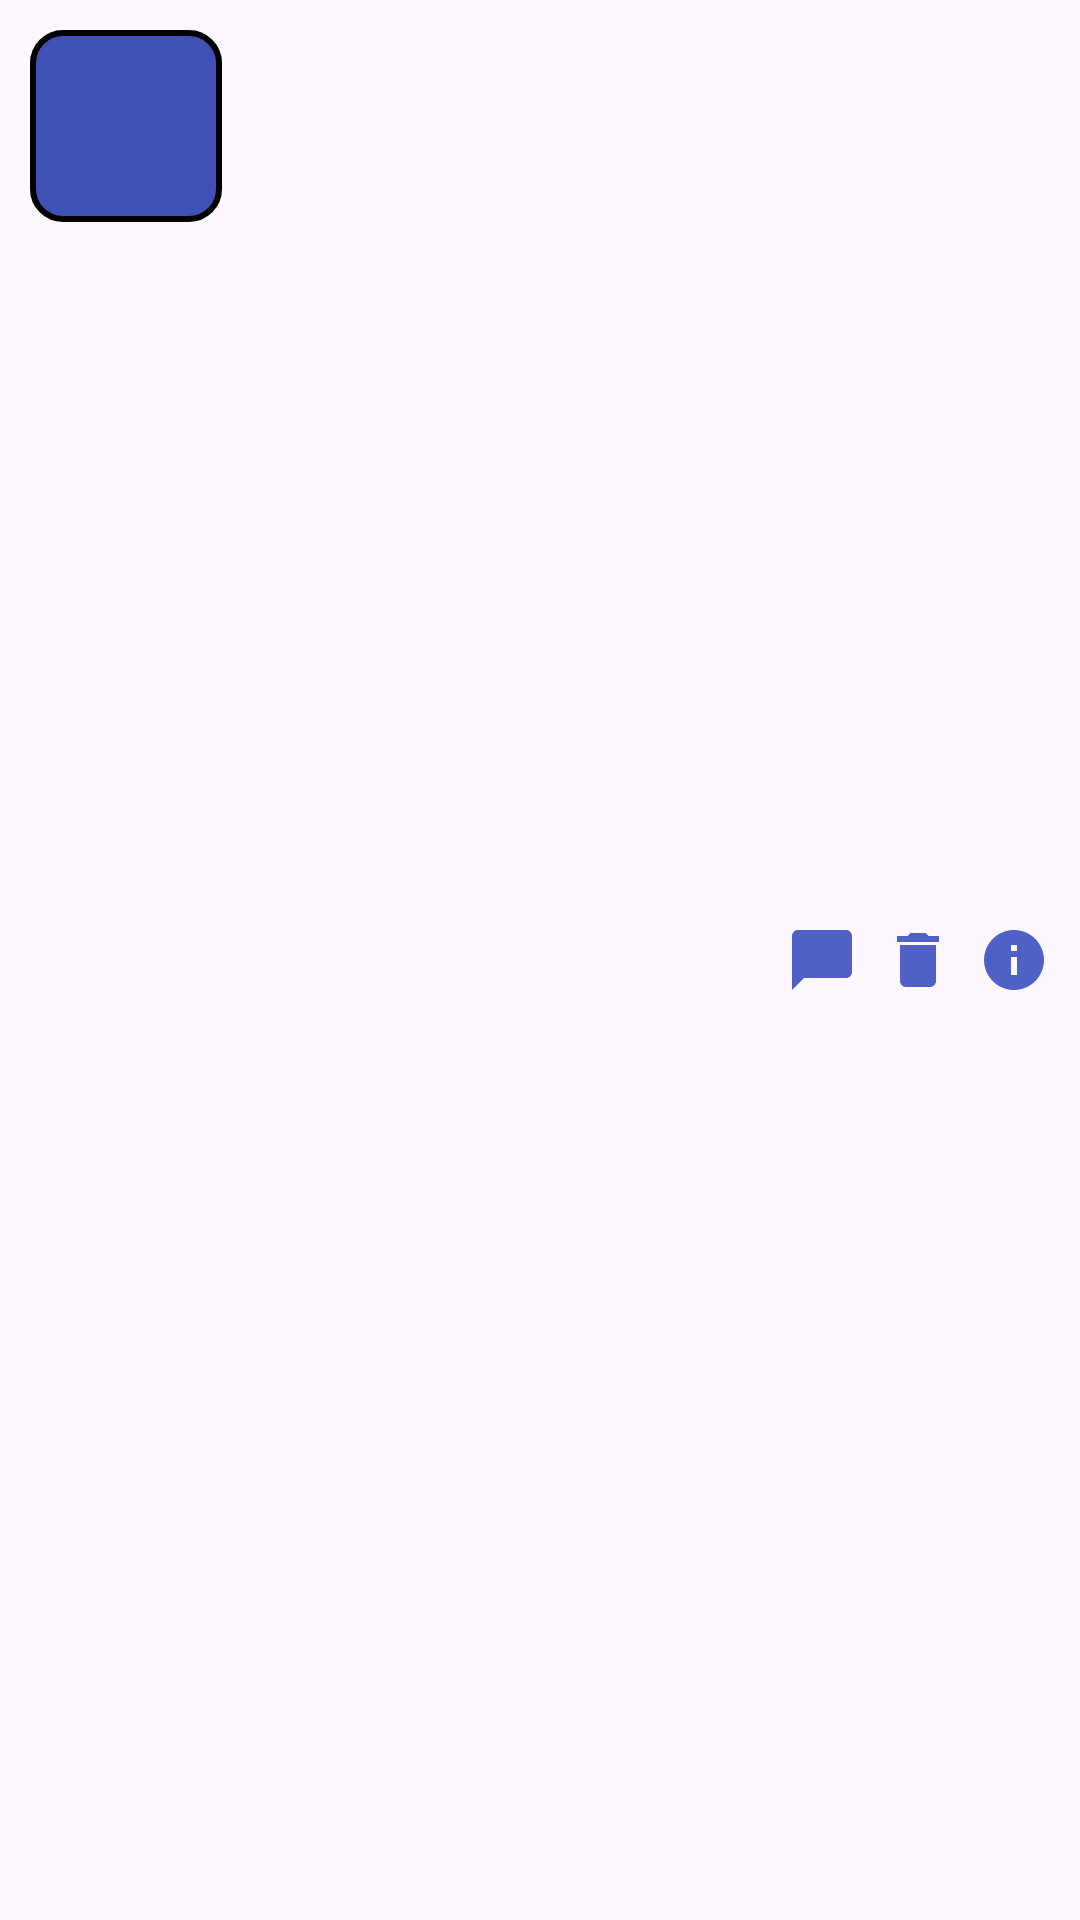

Screen size 1080w x 1920h. Icon name, then its box in pixels as (x1, y1, x2, y2):
chat: (792, 930, 852, 990)
delete: (897, 933, 939, 987)
info: (984, 930, 1044, 990)
